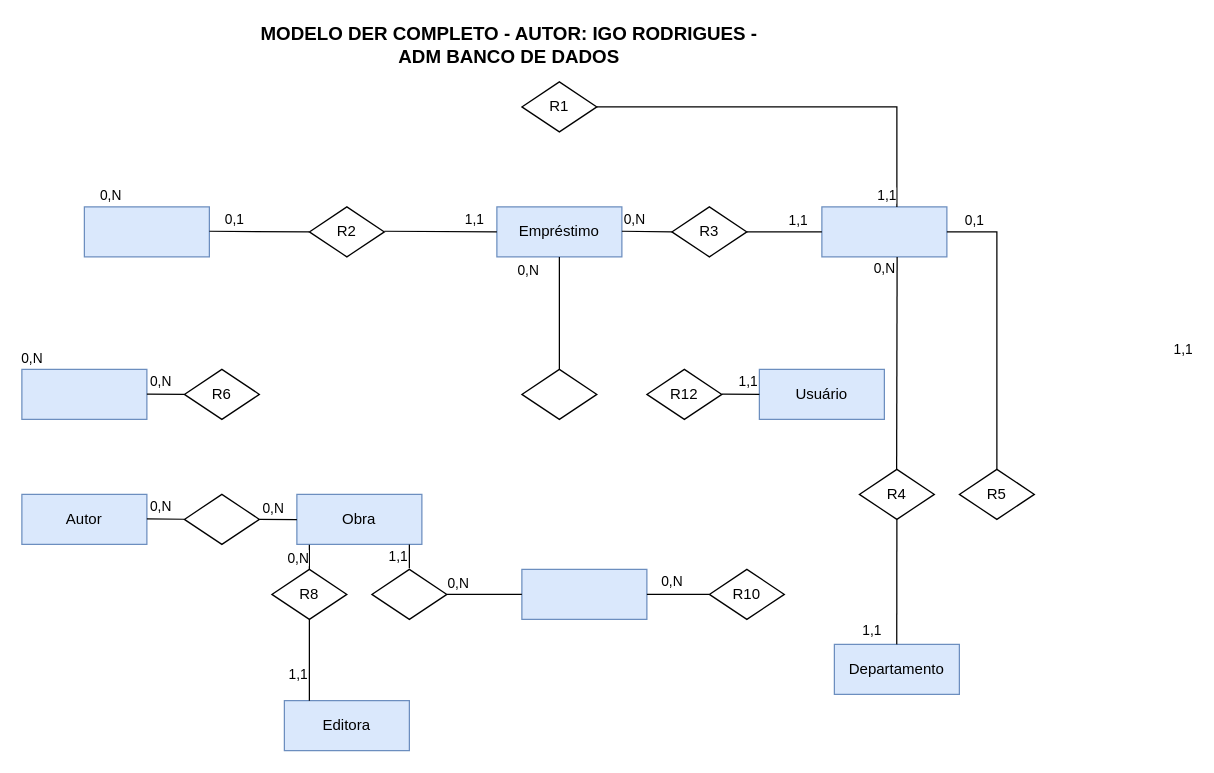
The diagram is 1214 pixels wide and 773 high, and some of its shapes have lost their labels. Here are the shapes that lost their labels. From the top down, the centre of each, then its label:
At point 146,231: "Devolução".
At point 884,231: "Funcionário".
At point 84,393: "Assunto".
At point 559,393: "R11".
At point 221,518: "R7".
At point 409,593: "R9".
At point 584,593: "Reserva".
